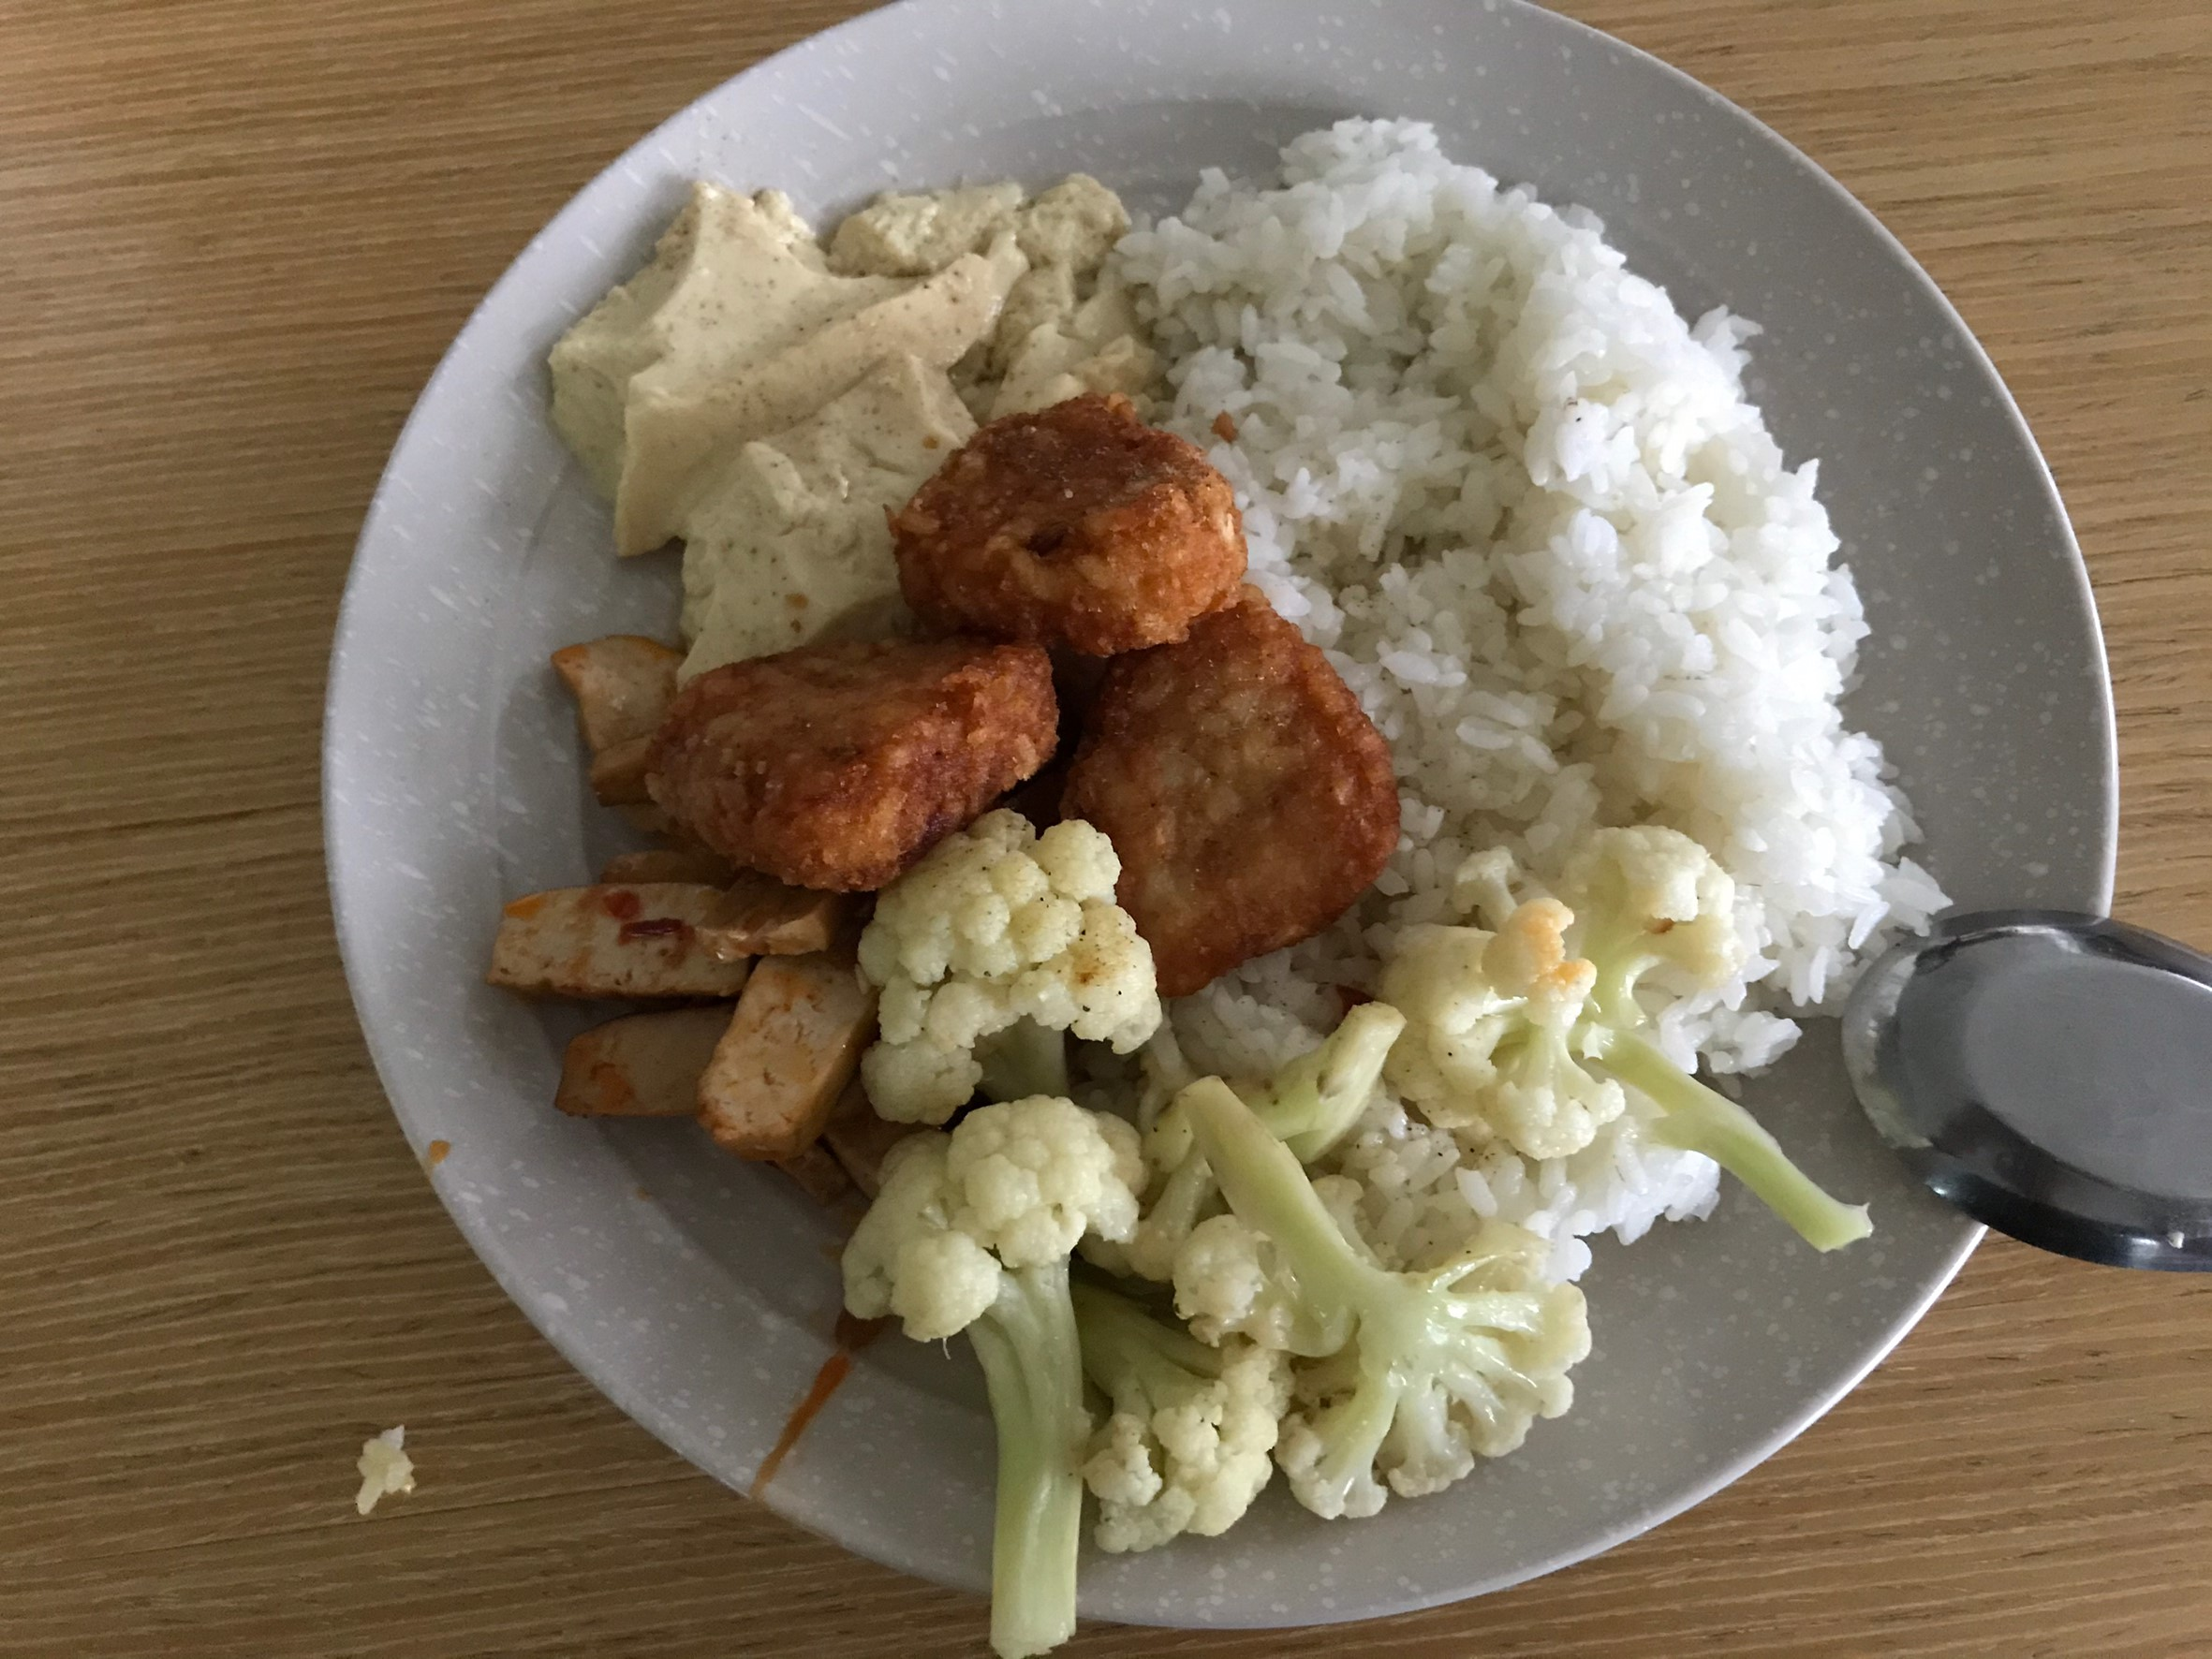rice: (1128, 117, 1881, 828)
triangle_hash_brown: (638, 387, 1396, 993)
